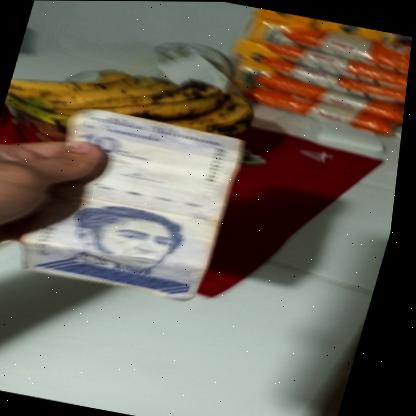vef_front: (16, 104, 255, 302)
